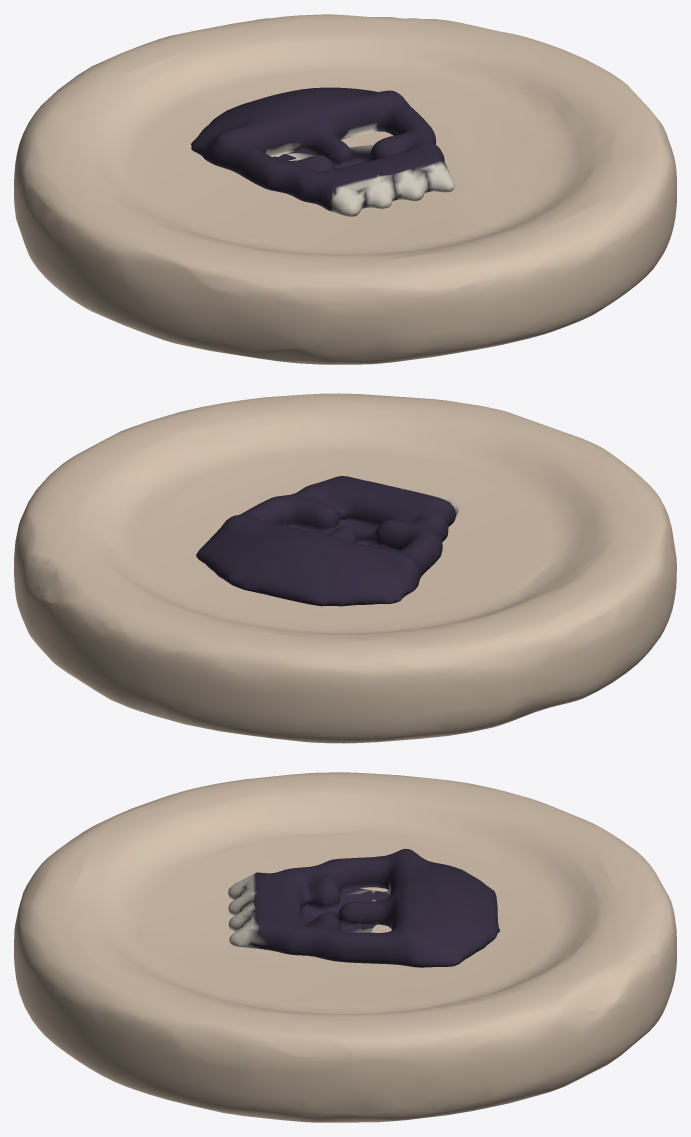
The model's file is token-necromancer-red.glb.
3 views of the same model, one above another, from view 1: azimuth 30°, elevation 25°; view 2: azimuth 150°, elevation 25°; view 3: azimuth 270°, elevation 25° (orthographic).
Visible parts, largest first — view 1: token_necromancer_red; view 2: token_necromancer_red; view 3: token_necromancer_red.
Boxes of the visible parts, <box> form: token_necromancer_red: <box>14,14,676,364</box>; token_necromancer_red: <box>14,393,676,743</box>; token_necromancer_red: <box>14,772,676,1122</box>.
Bounding box in the file's own units: 0.414 × 0.0725 × 0.4142.
